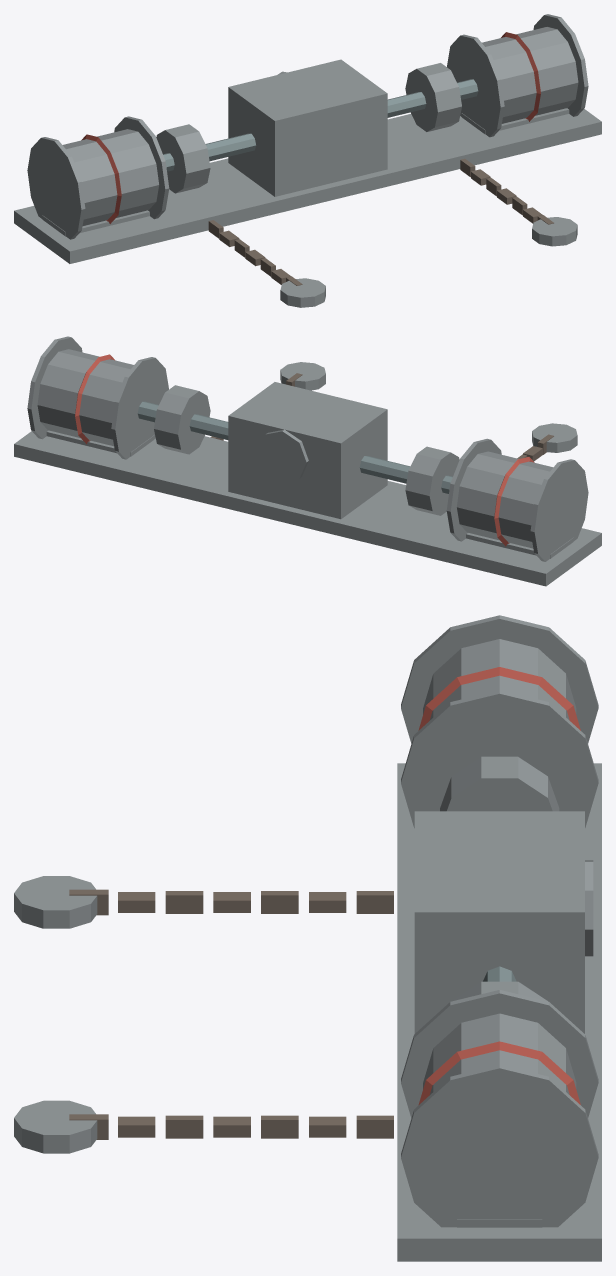
The model's file is ext_windlass.fbx.
3 views of the same model, one above another, from view 1: azimuth 30°, elevation 25°; view 2: azimuth 150°, elevation 25°; view 3: azimuth 270°, elevation 25° (orthographic). The views are drawn at different scales.
Visible parts, largest first — view 1: ext_windlass; view 2: ext_windlass; view 3: ext_windlass.
Part boxes in pixels (box(x1,y1,x2,y2)): ext_windlass: box(14, 14, 601, 307); ext_windlass: box(14, 336, 601, 586); ext_windlass: box(14, 615, 601, 1261).
Bounding box in the file's own units: 6.6 × 1.19 × 3.45.
